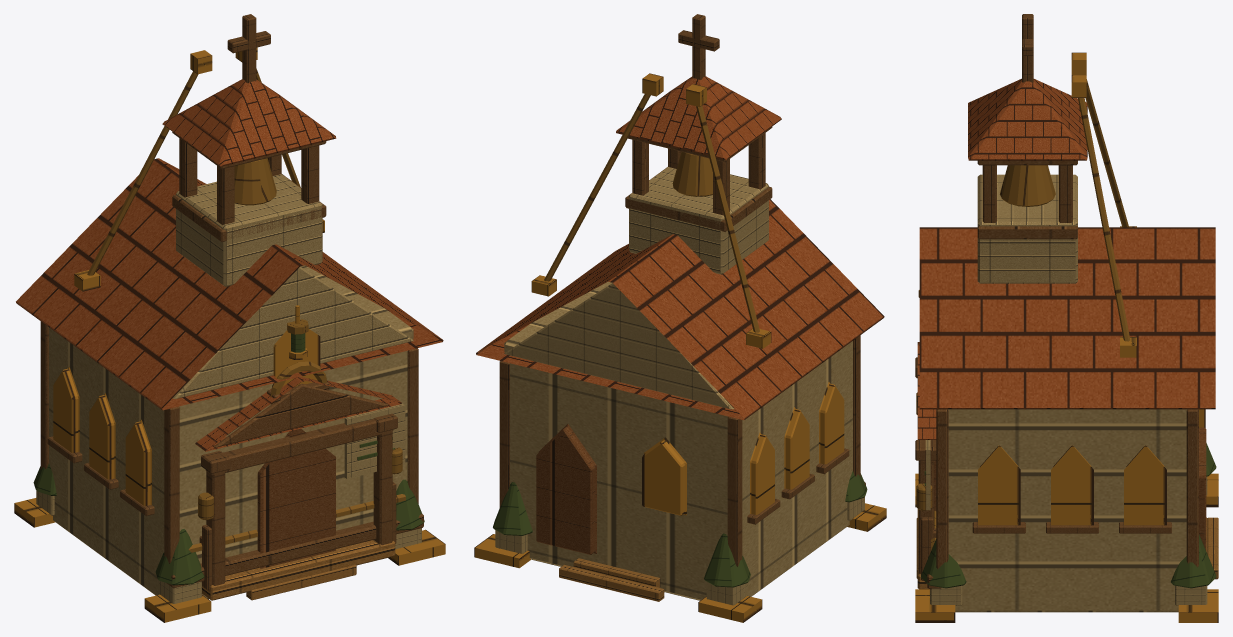
Rendered from chapel.e5.glb.
3 views of the same model, side by side, from view 1: azimuth 30°, elevation 25°; view 2: azimuth 150°, elevation 25°; view 3: azimuth 270°, elevation 25° (orthographic). The views are drawn at different scales.
Parts seen in each view (by area): view 1: ChapelE5; view 2: ChapelE5; view 3: ChapelE5.
Part boxes in pixels (x1,y1,x2,y2): ChapelE5: (14, 14, 445, 622); ChapelE5: (474, 14, 886, 622); ChapelE5: (915, 14, 1218, 622).
Bounding box in the file's own units: 3.46 × 6.25 × 3.19.
Materials: 1 (1 with a texture image).
